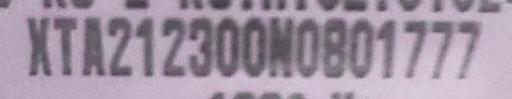letter: (265, 12, 297, 81), (212, 15, 244, 78), (105, 15, 135, 78), (400, 17, 430, 80), (24, 16, 54, 77), (294, 15, 322, 80), (347, 16, 375, 81), (456, 17, 484, 82), (186, 14, 214, 77), (240, 15, 268, 78), (320, 16, 348, 79), (428, 18, 456, 81), (159, 16, 187, 77), (80, 14, 106, 77), (52, 15, 78, 78), (372, 17, 398, 80), (133, 14, 157, 77)
